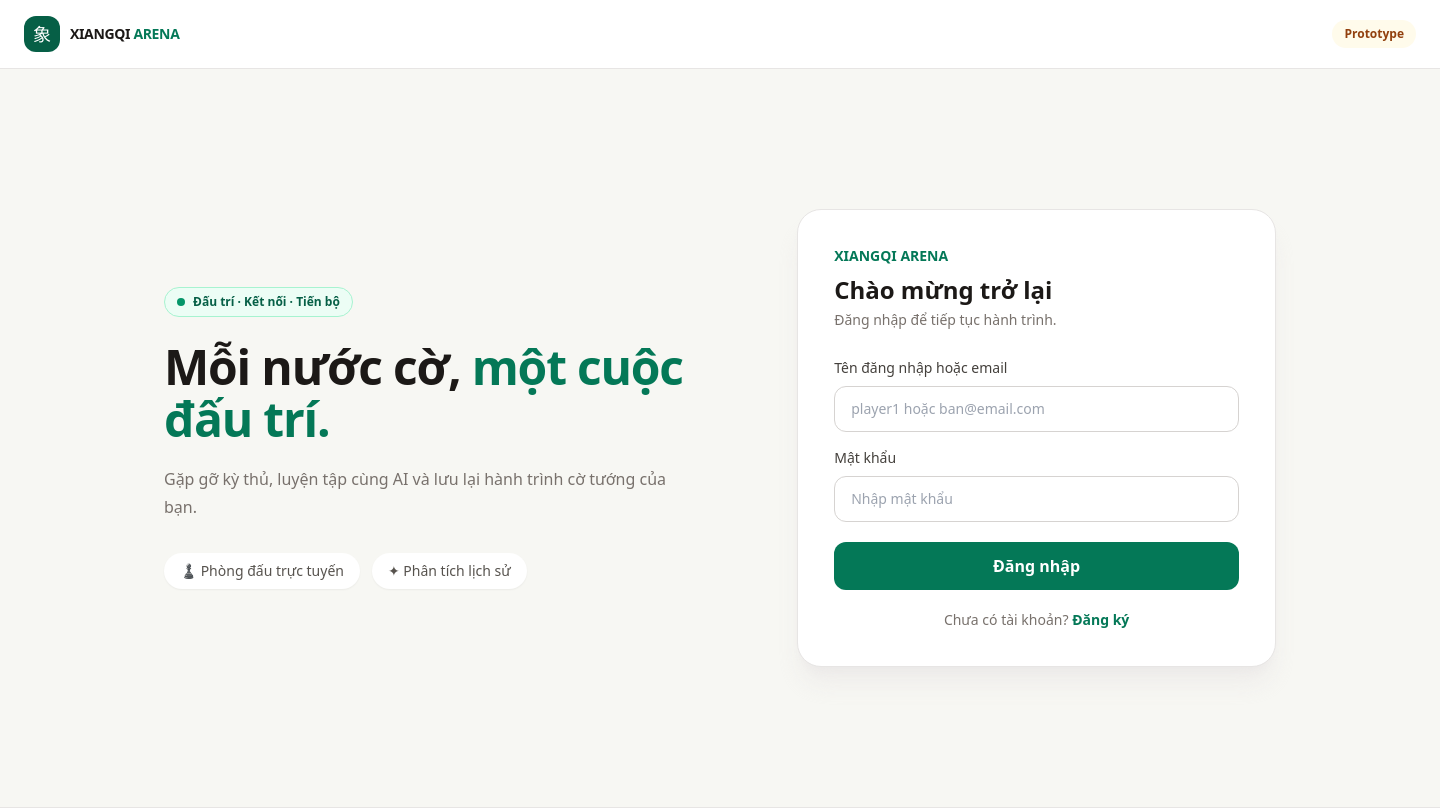
Test: XQA-61 screen flow prototype › opens the Chọn AI screen
Type "player1" into the field labelled "Tên đăng nhập hoặc email" at (1037, 409), box [834,386,1239,432]
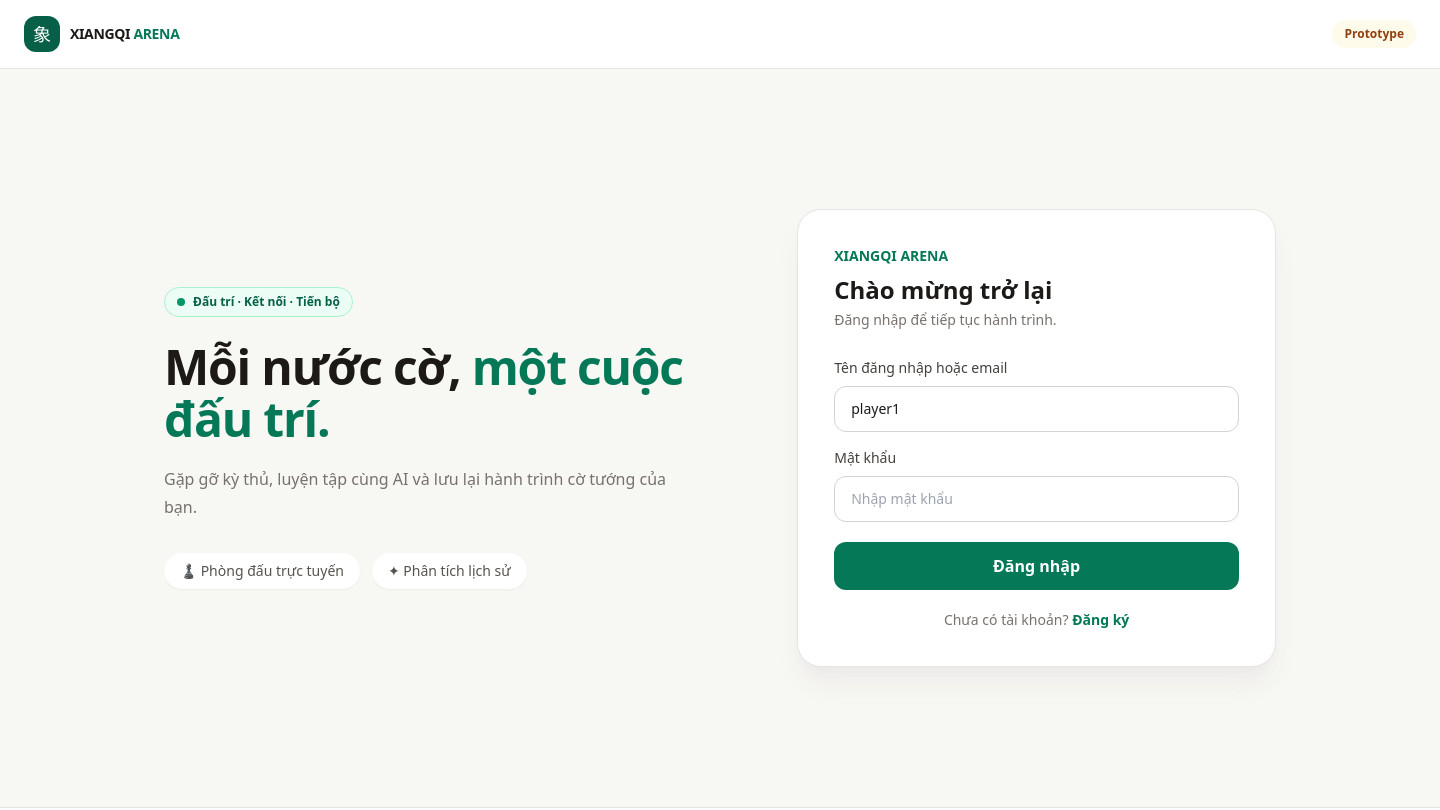
Type "demo-password" into the password field labelled "Mật khẩu" at (1037, 499), box [834,476,1239,522]
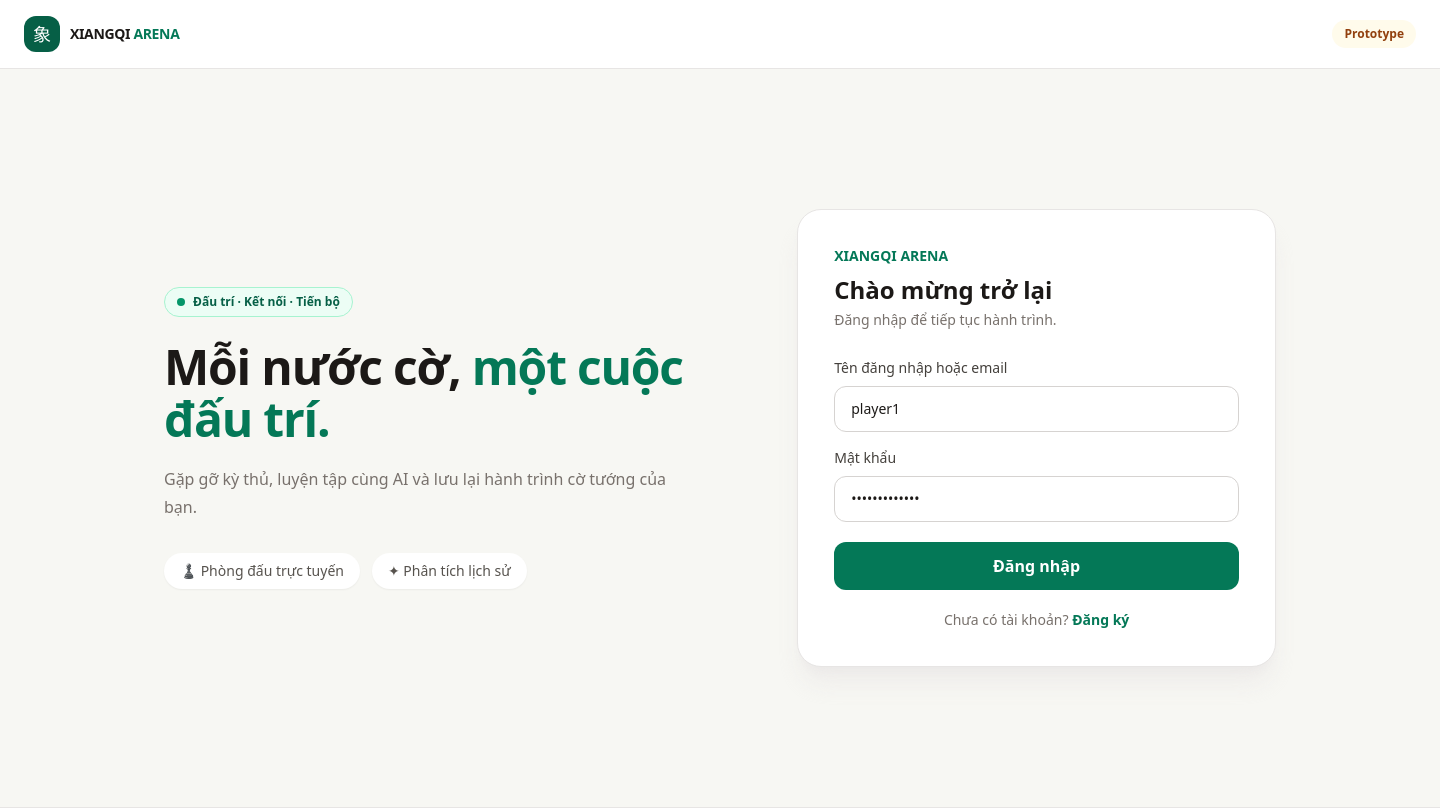
Click the button "Đăng nhập" at (1037, 566), box [834,542,1239,590]
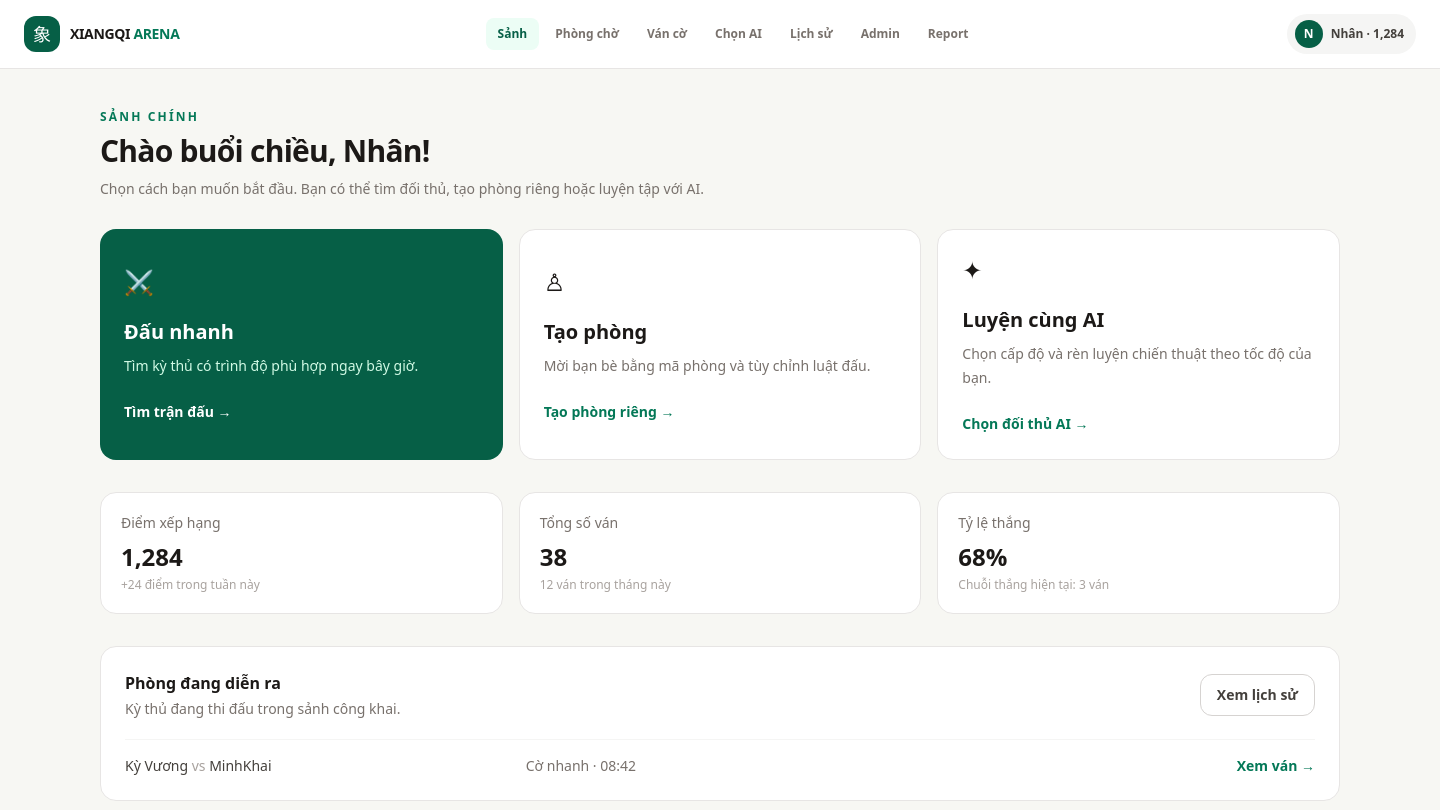
Click the button "Chọn AI" at (738, 34), box [703,18,774,50]
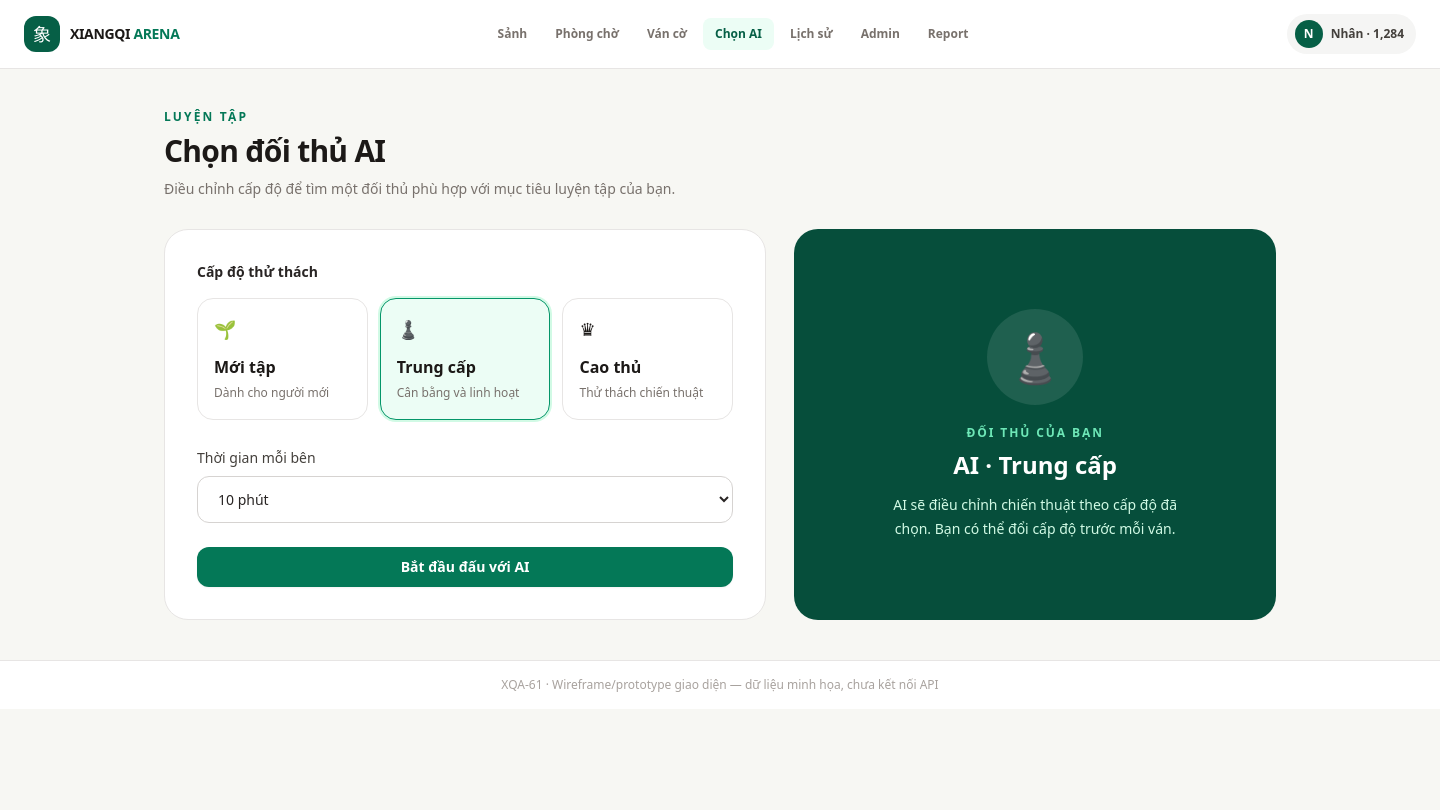
Check: the heading "Chọn đối thủ AI" is shown, box [164,130,385,171]
